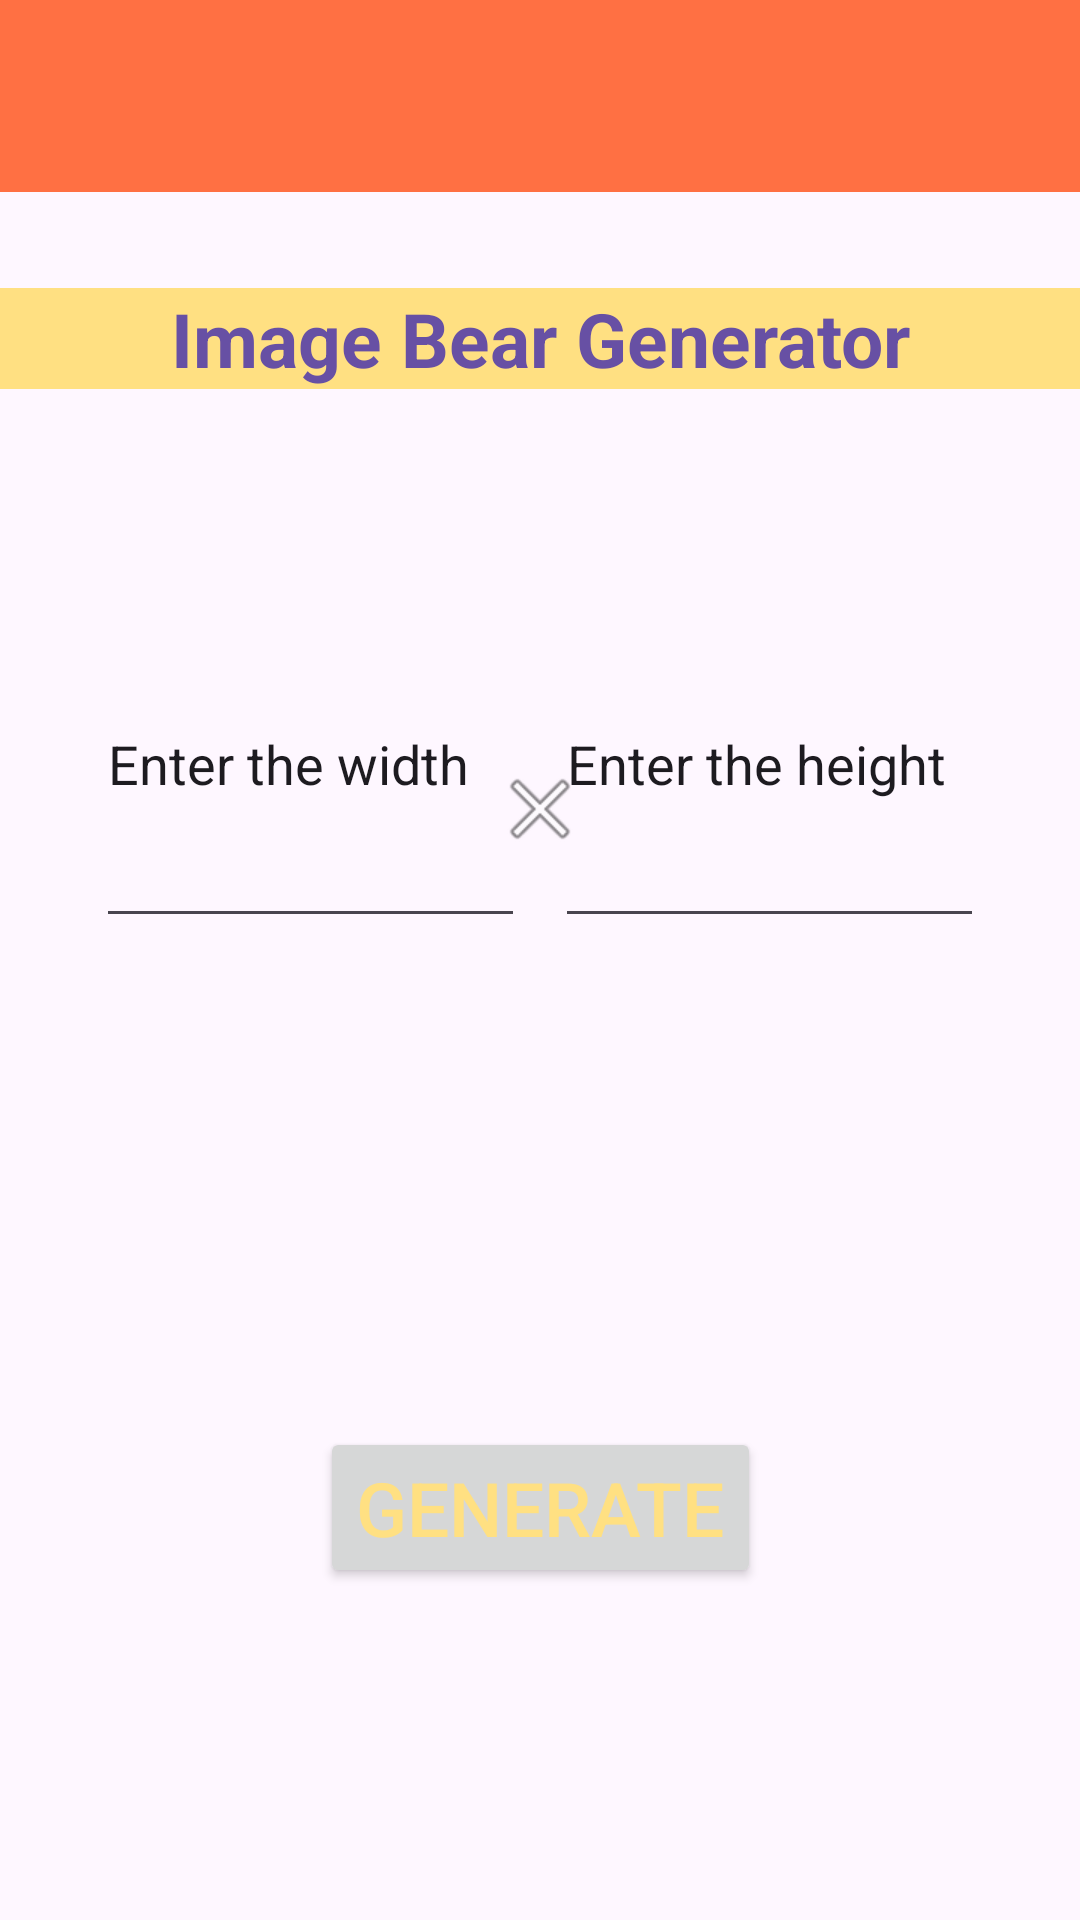

Named icons in this screenshot (1080 x 1920) and their bounding boxes, (x1, y1, x2, y2):
close clear cancel: (510, 779, 570, 839)
